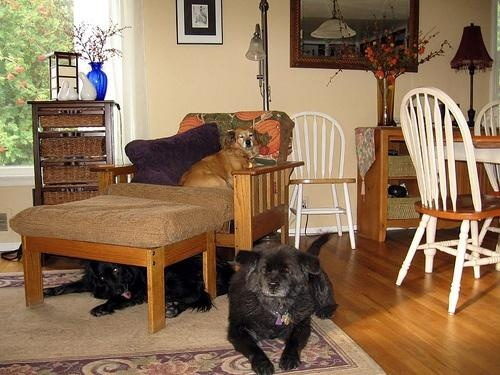chair: (395, 88, 500, 318), (277, 109, 367, 253), (471, 97, 500, 200)
dog: (230, 233, 344, 375), (42, 255, 233, 326), (181, 125, 266, 229)
